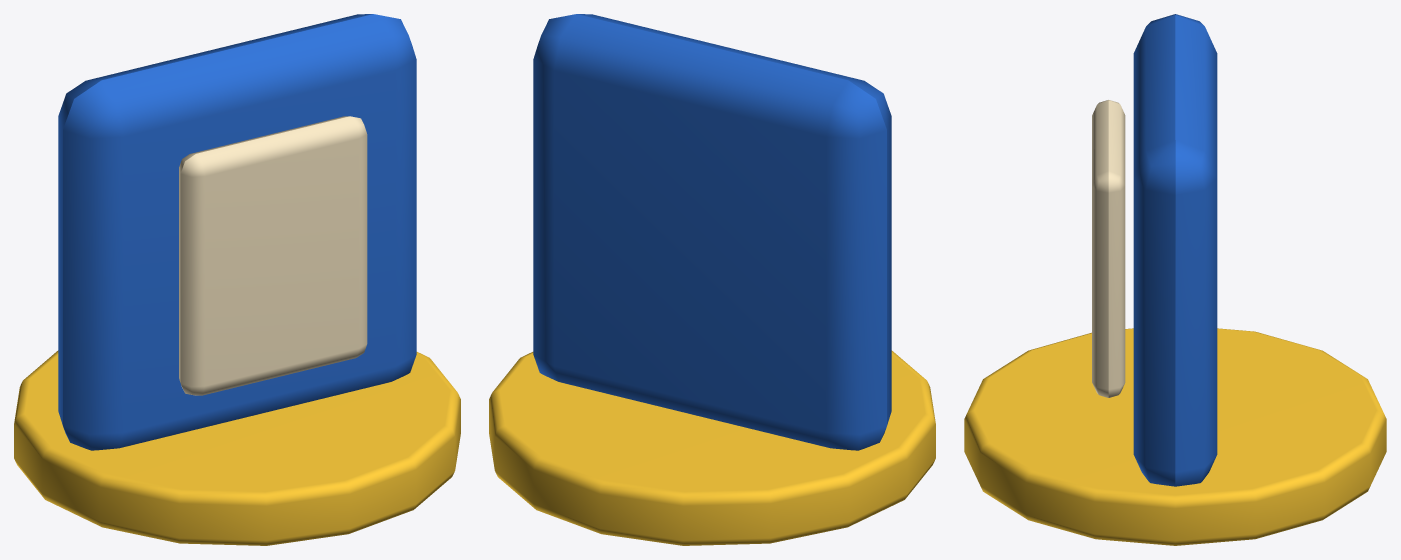
Rendered from COM-POWER-01.glb.
The picture shows the model from 3 angles, left to right: view 1: azimuth 30°, elevation 25°; view 2: azimuth 150°, elevation 25°; view 3: azimuth 270°, elevation 25°; orthographic projection. The views are drawn at different scales.
Visible parts, largest first — view 1: badge, base, shield face; view 2: badge, base; view 3: base, badge, shield face.
Part boxes in pixels (left/top/right/bottom): badge: left=58, top=14, right=416, bottom=450; base: left=14, top=350, right=460, bottom=545; shield face: left=179, top=116, right=367, bottom=395; badge: left=533, top=14, right=891, bottom=450; base: left=489, top=350, right=935, bottom=545; base: left=964, top=328, right=1386, bottom=545; badge: left=1133, top=14, right=1217, bottom=486; shield face: left=1092, top=100, right=1125, bottom=397.
Size of the model in its own units: 0.76 by 0.76 by 0.76.
